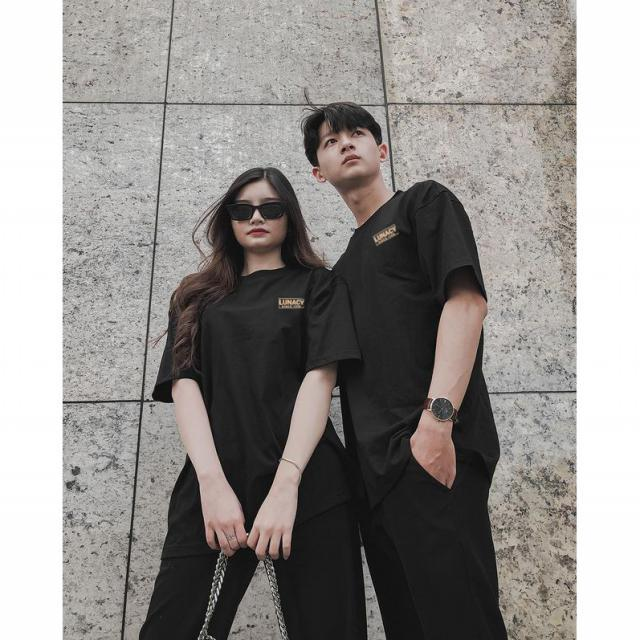Shirt: (151, 254, 352, 528), (324, 180, 488, 512)
